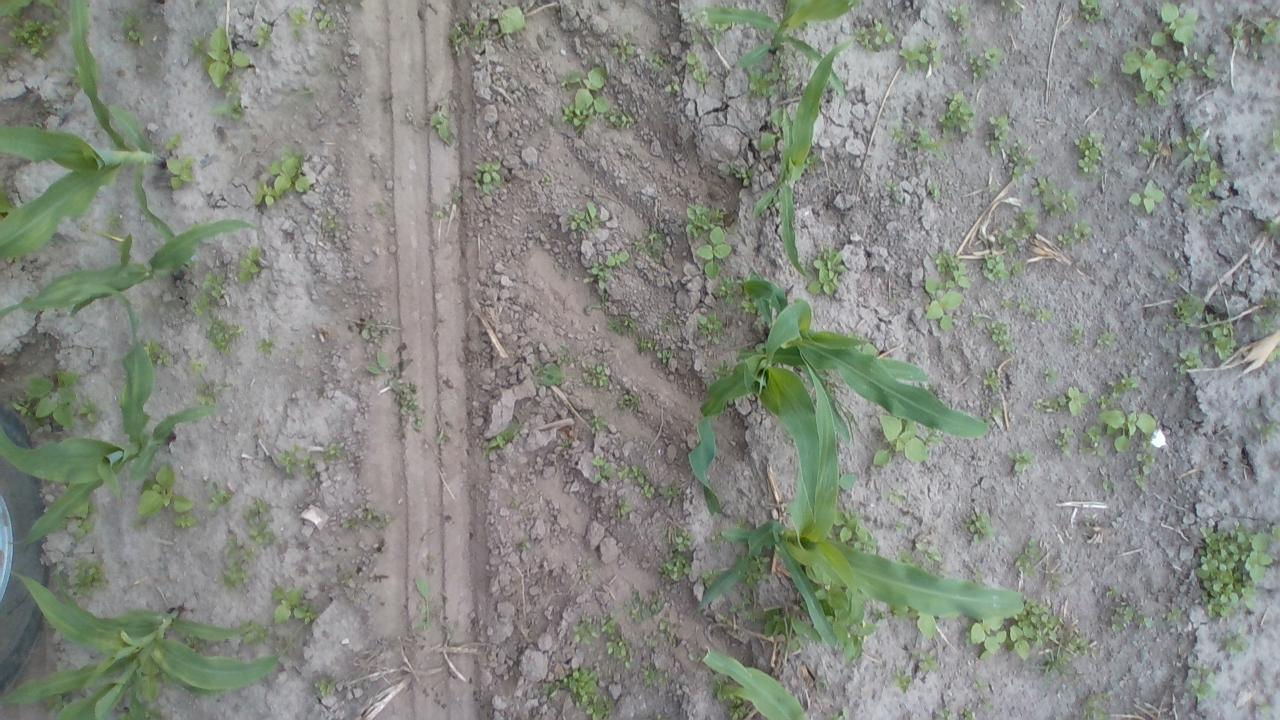Maize: (694, 354, 1026, 652), (689, 275, 992, 516), (1, 281, 227, 548), (0, 1, 177, 246), (5, 567, 282, 717), (4, 220, 260, 316), (751, 42, 852, 276), (702, 0, 856, 99), (702, 647, 811, 718)
Weeds: (1198, 517, 1270, 621), (816, 576, 876, 660), (1118, 46, 1198, 105), (6, 368, 76, 432), (188, 26, 258, 86), (570, 610, 637, 664), (542, 668, 613, 718), (560, 63, 608, 130), (746, 605, 811, 653), (135, 461, 190, 515), (870, 412, 926, 465), (256, 154, 312, 206), (1099, 406, 1156, 454), (1104, 584, 1152, 632), (389, 380, 429, 436), (998, 206, 1048, 250), (696, 226, 734, 283), (922, 279, 964, 330), (12, 12, 63, 54), (1185, 158, 1228, 207), (934, 238, 975, 288), (224, 529, 257, 591), (1152, 5, 1200, 47), (1032, 174, 1082, 214), (658, 526, 695, 580), (533, 344, 576, 390), (809, 244, 847, 296), (938, 87, 981, 132), (835, 510, 878, 554), (1017, 598, 1063, 638), (969, 612, 1007, 659), (272, 584, 316, 624), (412, 575, 442, 632), (244, 497, 282, 542), (1007, 141, 1043, 187), (1036, 387, 1090, 417), (426, 102, 458, 152), (616, 462, 656, 502), (899, 36, 946, 70), (1202, 316, 1238, 360), (625, 584, 669, 620), (579, 251, 630, 282), (890, 606, 942, 636), (75, 558, 112, 600), (1174, 126, 1213, 165), (449, 18, 488, 57), (1127, 178, 1166, 215), (1076, 132, 1110, 174), (712, 678, 746, 719), (188, 273, 222, 314), (856, 16, 893, 52), (208, 317, 244, 354), (683, 202, 714, 244), (164, 153, 197, 191), (1254, 291, 1280, 338), (1041, 646, 1074, 682), (1013, 534, 1041, 576), (1009, 624, 1038, 664), (1228, 20, 1278, 43), (1082, 685, 1116, 718), (966, 507, 998, 542), (1188, 660, 1216, 700), (912, 125, 952, 153), (982, 115, 1008, 158), (748, 62, 783, 93), (363, 350, 399, 380), (1176, 293, 1210, 324), (1054, 220, 1094, 246), (486, 424, 523, 452), (632, 230, 668, 258), (604, 314, 646, 338), (235, 244, 262, 281), (1221, 622, 1253, 653), (568, 200, 598, 232), (714, 274, 742, 308), (992, 319, 1018, 355), (122, 8, 148, 44), (612, 32, 638, 68), (693, 22, 730, 47), (1054, 424, 1078, 462), (358, 315, 394, 340), (498, 5, 529, 34), (1080, 425, 1107, 457), (275, 442, 298, 479), (1176, 343, 1206, 371), (970, 47, 1000, 74), (646, 43, 672, 74), (580, 362, 612, 387), (1106, 372, 1138, 396), (686, 50, 710, 82), (214, 95, 246, 119), (1134, 450, 1154, 488), (699, 310, 724, 340), (310, 4, 341, 28), (741, 560, 764, 592), (639, 631, 667, 657), (242, 622, 275, 644), (1011, 445, 1036, 474), (145, 341, 174, 366), (982, 253, 1008, 280), (950, 4, 977, 30), (590, 456, 616, 483), (919, 648, 943, 676), (257, 18, 278, 49), (916, 540, 943, 564), (208, 491, 230, 520), (78, 395, 101, 422), (608, 106, 636, 128), (1200, 52, 1220, 80), (478, 161, 502, 184), (1097, 465, 1119, 490), (362, 507, 387, 529), (325, 441, 350, 463), (284, 2, 310, 23), (983, 367, 1002, 395), (195, 383, 218, 406), (661, 480, 685, 502), (642, 664, 662, 690), (1070, 317, 1087, 346), (75, 516, 96, 539), (1079, 0, 1103, 20), (618, 392, 642, 412), (1068, 636, 1096, 653), (637, 336, 663, 354), (889, 122, 910, 144), (592, 413, 612, 436), (739, 296, 761, 316), (314, 676, 338, 694), (299, 454, 317, 478), (736, 166, 756, 187), (1046, 570, 1064, 592), (1262, 218, 1280, 240), (258, 338, 280, 356), (1138, 135, 1156, 156), (1164, 603, 1180, 626), (104, 210, 123, 229), (1272, 109, 1280, 154), (1088, 70, 1108, 88), (1168, 268, 1184, 290), (1036, 307, 1055, 325), (713, 358, 731, 377), (1000, 0, 1026, 13), (894, 670, 910, 691), (928, 178, 942, 202), (436, 429, 452, 450), (665, 75, 681, 96), (1043, 367, 1065, 382), (888, 488, 906, 506), (831, 703, 850, 720), (841, 472, 860, 489), (1260, 420, 1279, 437), (1096, 331, 1116, 347), (172, 515, 196, 528), (44, 694, 66, 708), (702, 568, 719, 586), (190, 359, 208, 376), (323, 215, 346, 228), (616, 500, 632, 518), (658, 348, 676, 364), (474, 183, 500, 194), (166, 134, 183, 150), (1093, 394, 1112, 408), (972, 681, 992, 694), (1254, 701, 1274, 714), (932, 708, 951, 720), (344, 516, 362, 528), (960, 706, 975, 720), (1011, 260, 1024, 276), (185, 636, 202, 648), (1018, 298, 1032, 312), (884, 179, 900, 191), (1269, 523, 1280, 538), (958, 34, 973, 45), (984, 698, 994, 714), (1001, 296, 1014, 308), (1165, 323, 1176, 336), (541, 171, 552, 182), (991, 408, 1001, 418)
